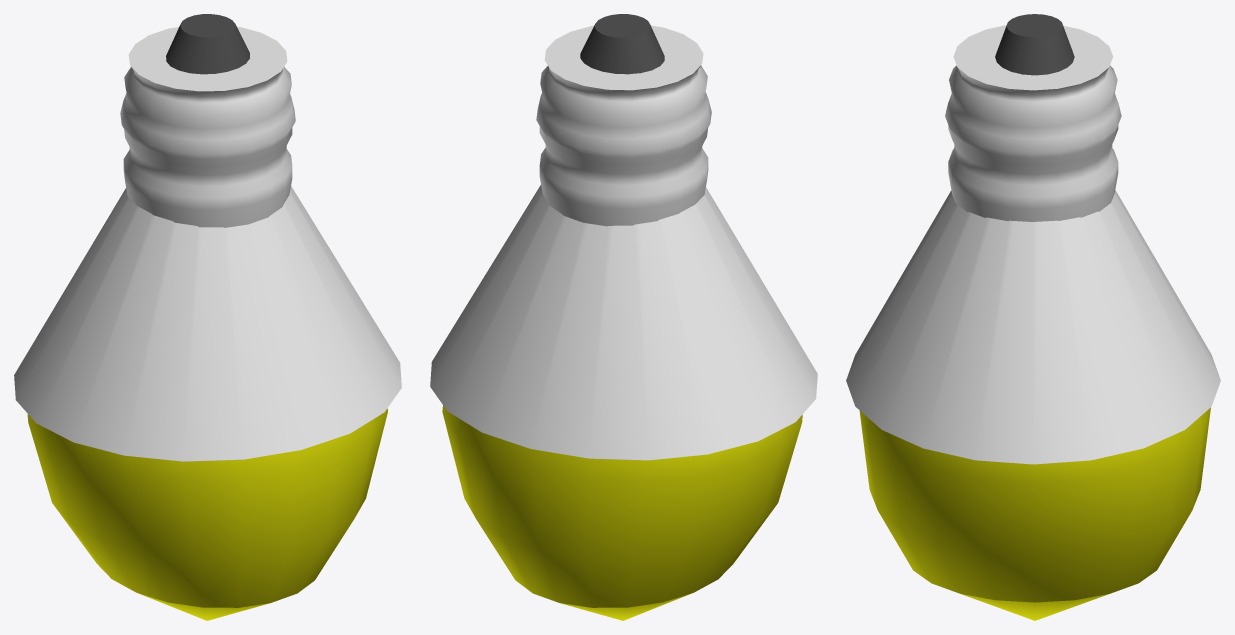
Rendered from Lamp.fbx.
The picture shows the model from 3 angles, left to right: view 1: azimuth 30°, elevation 25°; view 2: azimuth 150°, elevation 25°; view 3: azimuth 270°, elevation 25°; orthographic projection.
Visible parts, largest first — view 1: Lamp; view 2: Lamp; view 3: Lamp.
Boxes of the visible parts, x1,y1,x2,y2 form: Lamp: [14, 14, 401, 620]; Lamp: [430, 14, 817, 620]; Lamp: [846, 14, 1220, 620].
Size of the model in its own units: 3.34 by 5.53 by 3.15.
